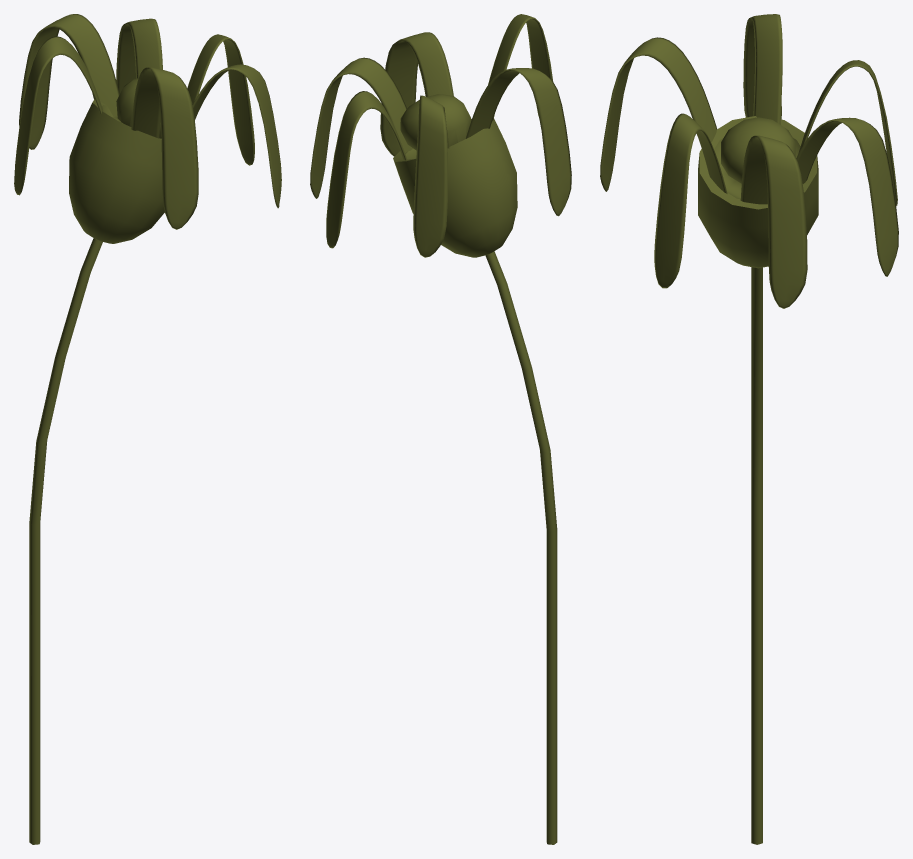
File: StrangePlant.fbx
3 renders of one model, left to right at view 1: azimuth 30°, elevation 25°; view 2: azimuth 150°, elevation 25°; view 3: azimuth 270°, elevation 25°, orthographic. The views are drawn at different scales.
Visible parts, largest first — view 1: StrangePlant, Stem, Petal, Petal2, Petal4, Petal1, Petal5, Petal3; view 2: StrangePlant, Stem, Petal1, Petal2, Petal3, Petal4, Petal5, Petal; view 3: StrangePlant, Petal4, Stem, Petal3, Petal5, Petal, Petal1, Petal2.
Boxes of the visible parts, left/top/right/bottom form: StrangePlant: left=69, top=78, right=164, bottom=243; Stem: left=29, top=238, right=102, bottom=844; Petal: left=131, top=67, right=198, bottom=229; Petal2: left=19, top=14, right=119, bottom=149; Petal4: left=187, top=34, right=254, bottom=165; Petal1: left=14, top=36, right=102, bottom=195; Petal5: left=116, top=18, right=162, bottom=93; Petal3: left=192, top=64, right=281, bottom=208; StrangePlant: left=393, top=94, right=517, bottom=257; Stem: left=485, top=251, right=557, bottom=844; Petal1: left=466, top=68, right=571, bottom=216; Petal2: left=413, top=95, right=449, bottom=257; Petal3: left=380, top=32, right=453, bottom=156; Petal4: left=310, top=57, right=412, bottom=198; Petal5: left=326, top=91, right=407, bottom=248; Petal: left=488, top=14, right=552, bottom=117; StrangePlant: left=698, top=116, right=818, bottom=268; Petal4: left=740, top=135, right=807, bottom=308; Stem: left=751, top=267, right=762, bottom=844; Petal3: left=654, top=113, right=727, bottom=288; Petal5: left=796, top=117, right=898, bottom=276; Petal: left=600, top=37, right=716, bottom=191; Petal1: left=743, top=14, right=782, bottom=124; Petal2: left=798, top=60, right=897, bottom=205.
Bounding box in the file's own units: 1.48 × 4.6 × 1.48.
